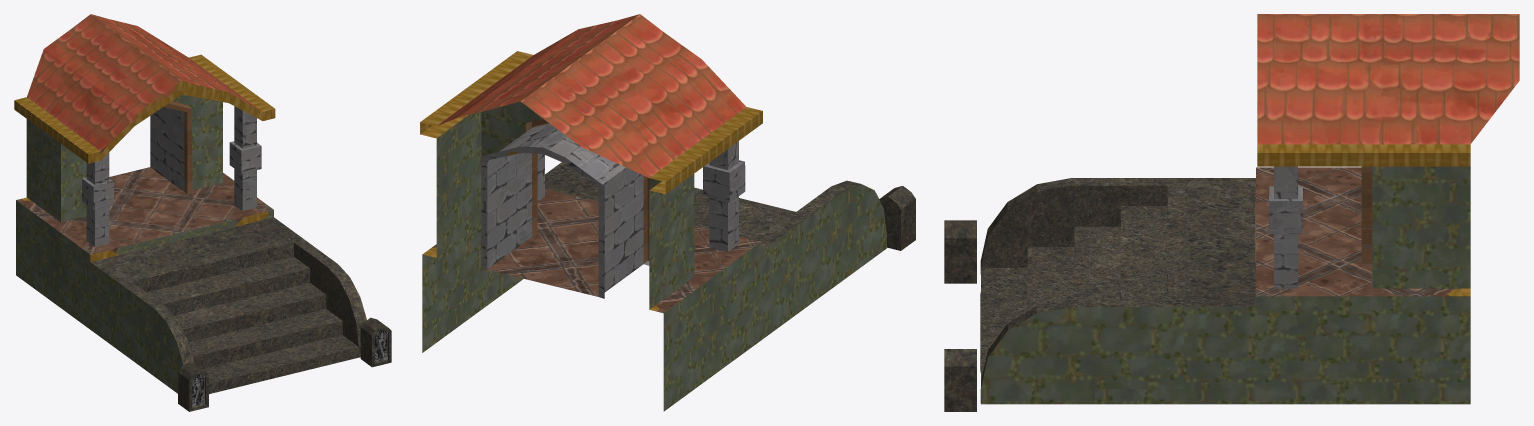
The model's file is Temple_Enter_2.fbx.
3 views of the same model, side by side, from view 1: azimuth 30°, elevation 25°; view 2: azimuth 150°, elevation 25°; view 3: azimuth 270°, elevation 25° (orthographic). The views are drawn at different scales.
Visible parts, largest first — view 1: Enter; view 2: Enter; view 3: Enter.
Boxes of the visible parts, x1,y1,x2,y2 form: Enter: [14, 14, 391, 411]; Enter: [420, 14, 915, 411]; Enter: [944, 14, 1519, 411].
Bounding box in the file's own units: 2063 × 2211 × 3525.
